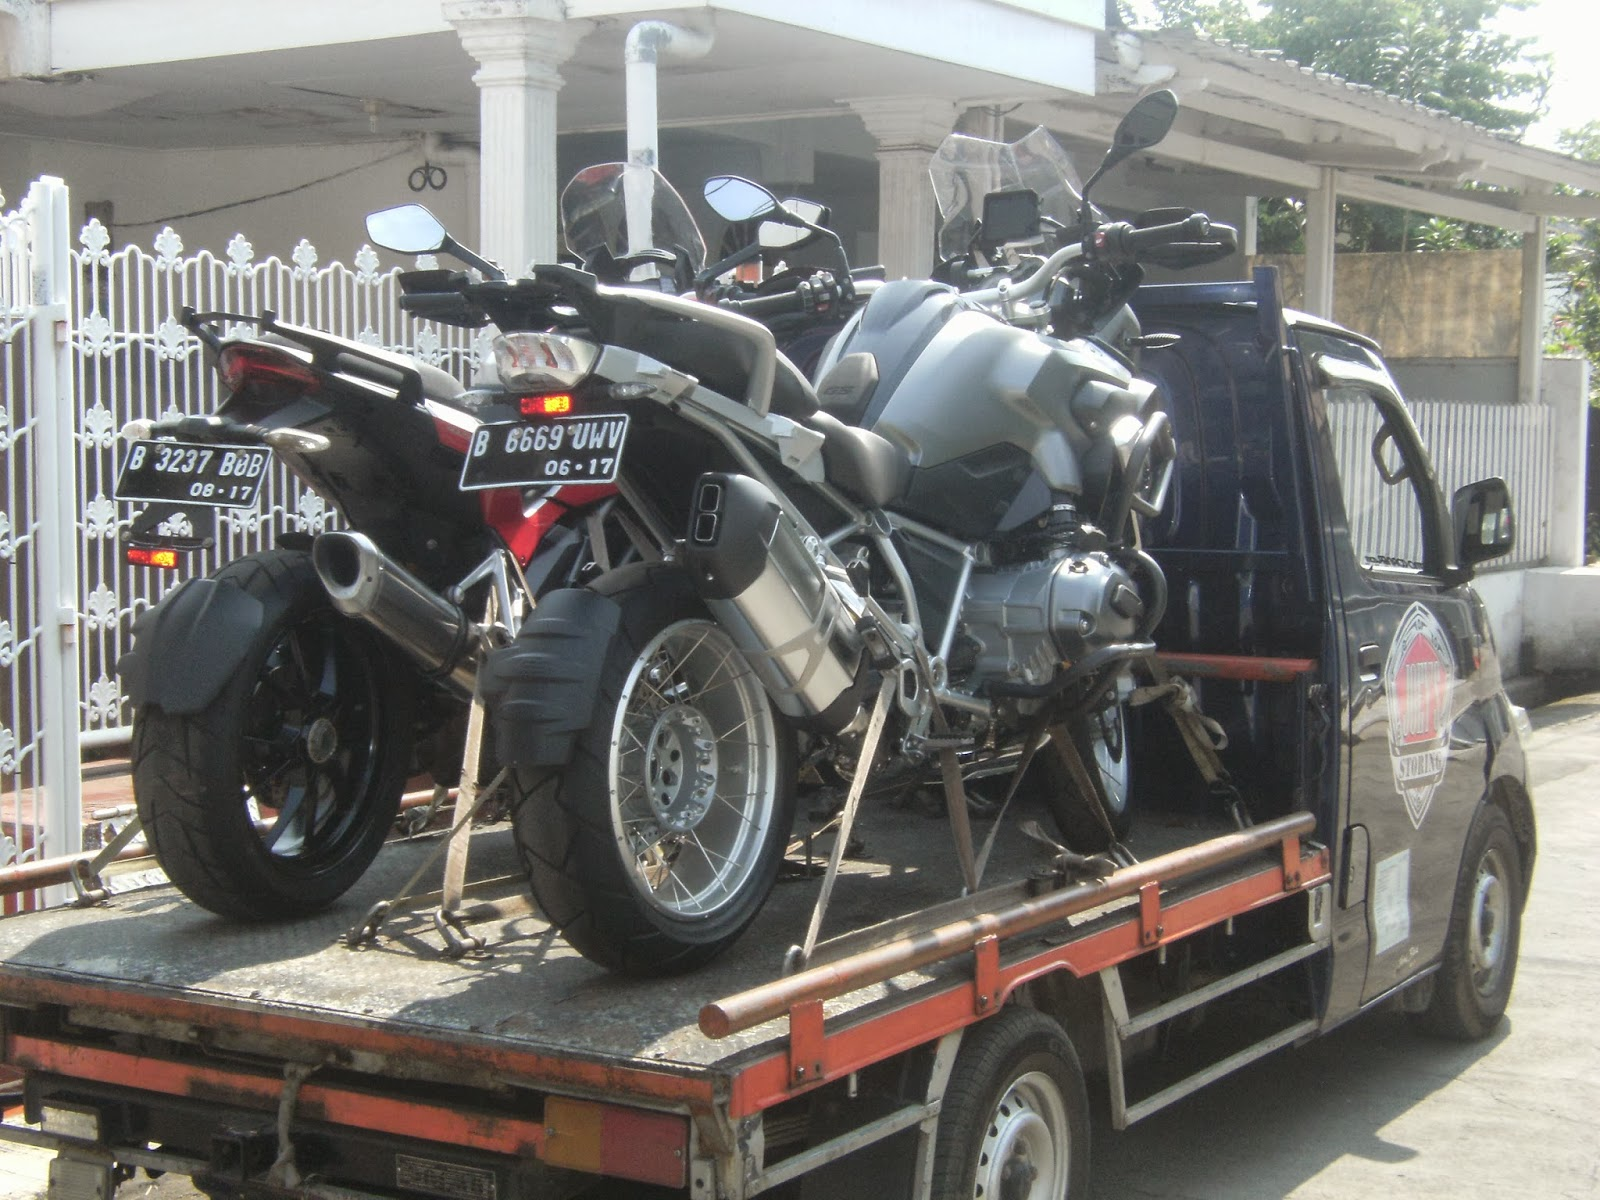plate: (465, 412, 621, 488), (117, 438, 263, 504)
